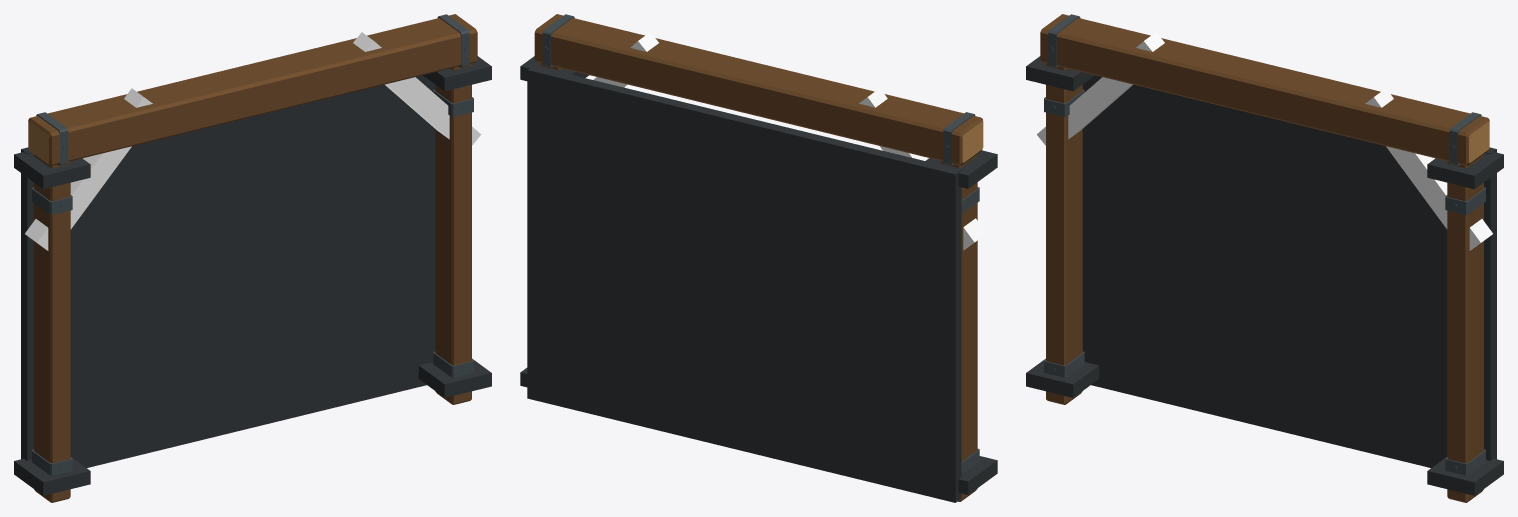
Rendered from mine_portal.glb.
3 renders of one model, left to right at view 1: azimuth 30°, elevation 25°; view 2: azimuth 150°, elevation 25°; view 3: azimuth 330°, elevation 25°, orthographic.
Parts seen in each view (by area): view 1: TunnelDark.006, support.018, support.019, support.020, PortalBrace.012, PortalBrace.013, IronBand.024, IronBand.025, IronBand.026, IronBand.027; view 2: TunnelDark.006, support.018, support.019, IronBand.025, PortalBrace.012, IronBand.024; view 3: TunnelDark.006, support.018, support.020, support.019, PortalBrace.013, PortalBrace.012, IronBand.026, IronBand.027, IronBand.024, IronBand.025.
Part boxes in pixels (bbox=[...]): TunnelDark.006: bbox=[21, 75, 435, 467]; support.018: bbox=[28, 14, 477, 165]; support.019: bbox=[32, 154, 72, 502]; support.020: bbox=[433, 63, 473, 404]; PortalBrace.012: bbox=[25, 88, 152, 250]; PortalBrace.013: bbox=[353, 32, 480, 145]; IronBand.024: bbox=[14, 457, 90, 495]; IronBand.025: bbox=[14, 152, 90, 189]; IronBand.026: bbox=[418, 358, 491, 397]; IronBand.027: bbox=[423, 56, 491, 91]; TunnelDark.006: bbox=[527, 65, 961, 502]; support.018: bbox=[534, 14, 983, 165]; support.019: bbox=[941, 154, 979, 501]; IronBand.025: bbox=[926, 150, 997, 188]; PortalBrace.012: bbox=[859, 88, 986, 250]; IronBand.024: bbox=[958, 456, 997, 494]; TunnelDark.006: bbox=[1082, 75, 1496, 467]; support.018: bbox=[1040, 14, 1489, 165]; support.020: bbox=[1445, 154, 1485, 502]; support.019: bbox=[1044, 63, 1084, 404]; PortalBrace.013: bbox=[1365, 88, 1492, 250]; PortalBrace.012: bbox=[1037, 32, 1164, 145]; IronBand.026: bbox=[1427, 457, 1503, 495]; IronBand.027: bbox=[1427, 152, 1503, 189]; IronBand.024: bbox=[1026, 358, 1099, 397]; IronBand.025: bbox=[1026, 56, 1094, 91].
Bounding box in the file's own units: 6.28 × 5.1 × 0.78.
